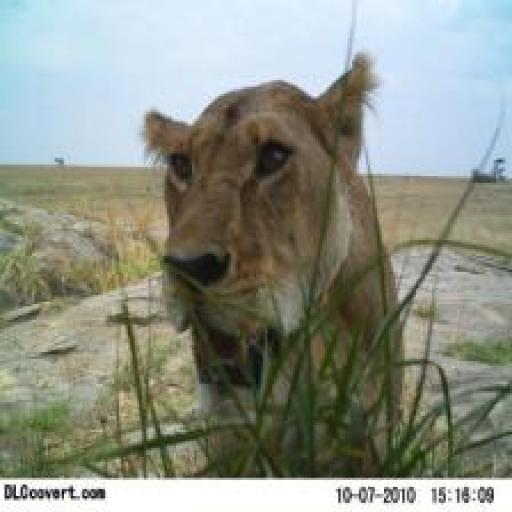lion: (142, 36, 409, 478)
